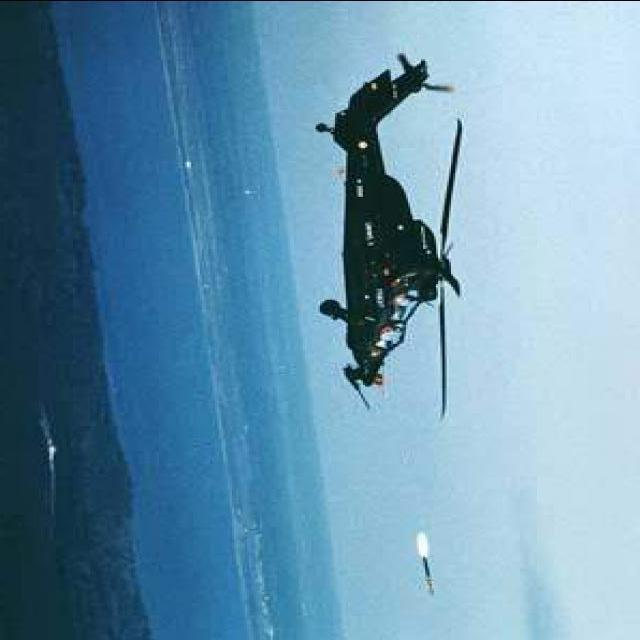missile: (416, 560, 438, 604)
